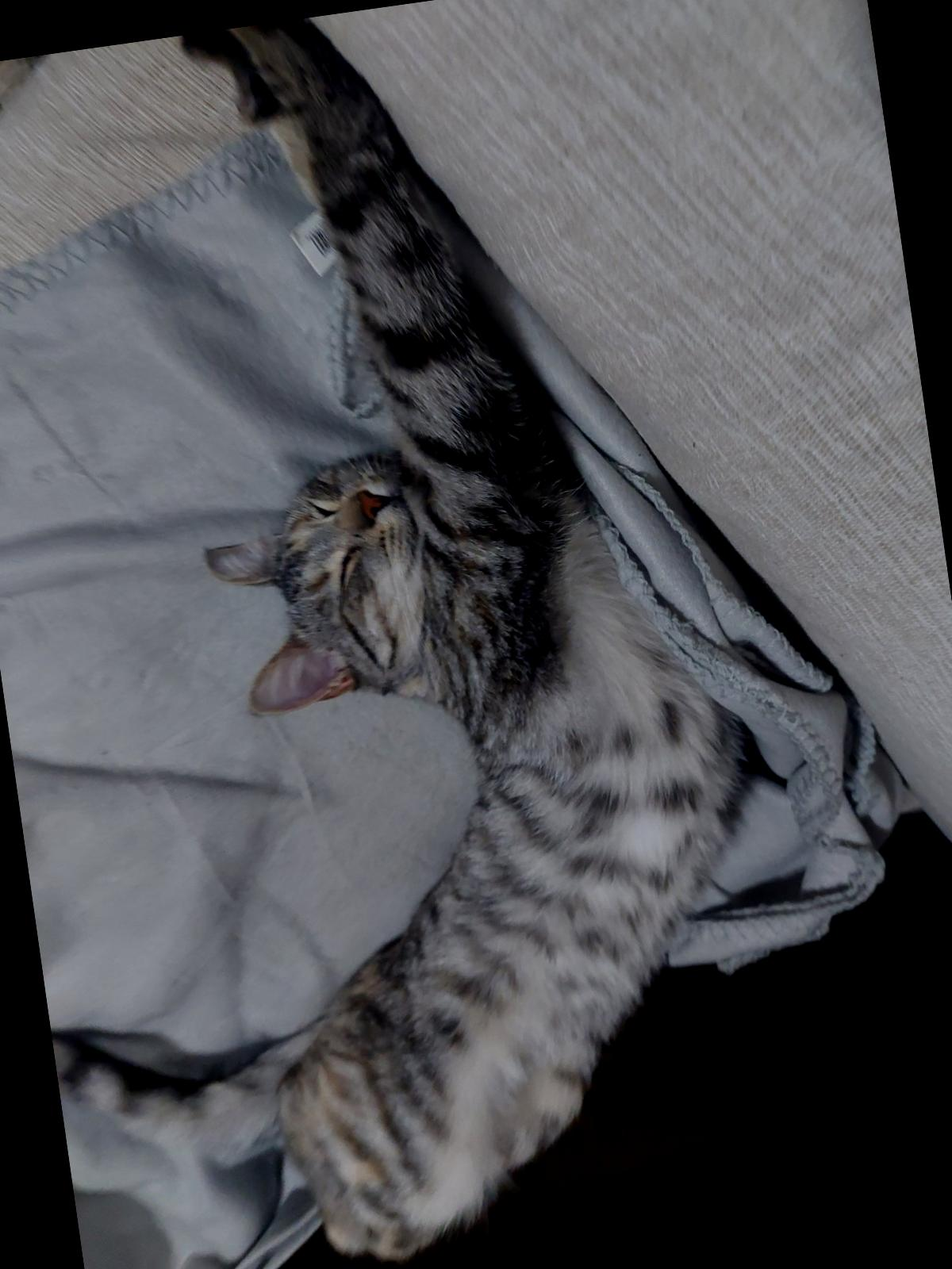macka: (0, 0, 822, 1269)
